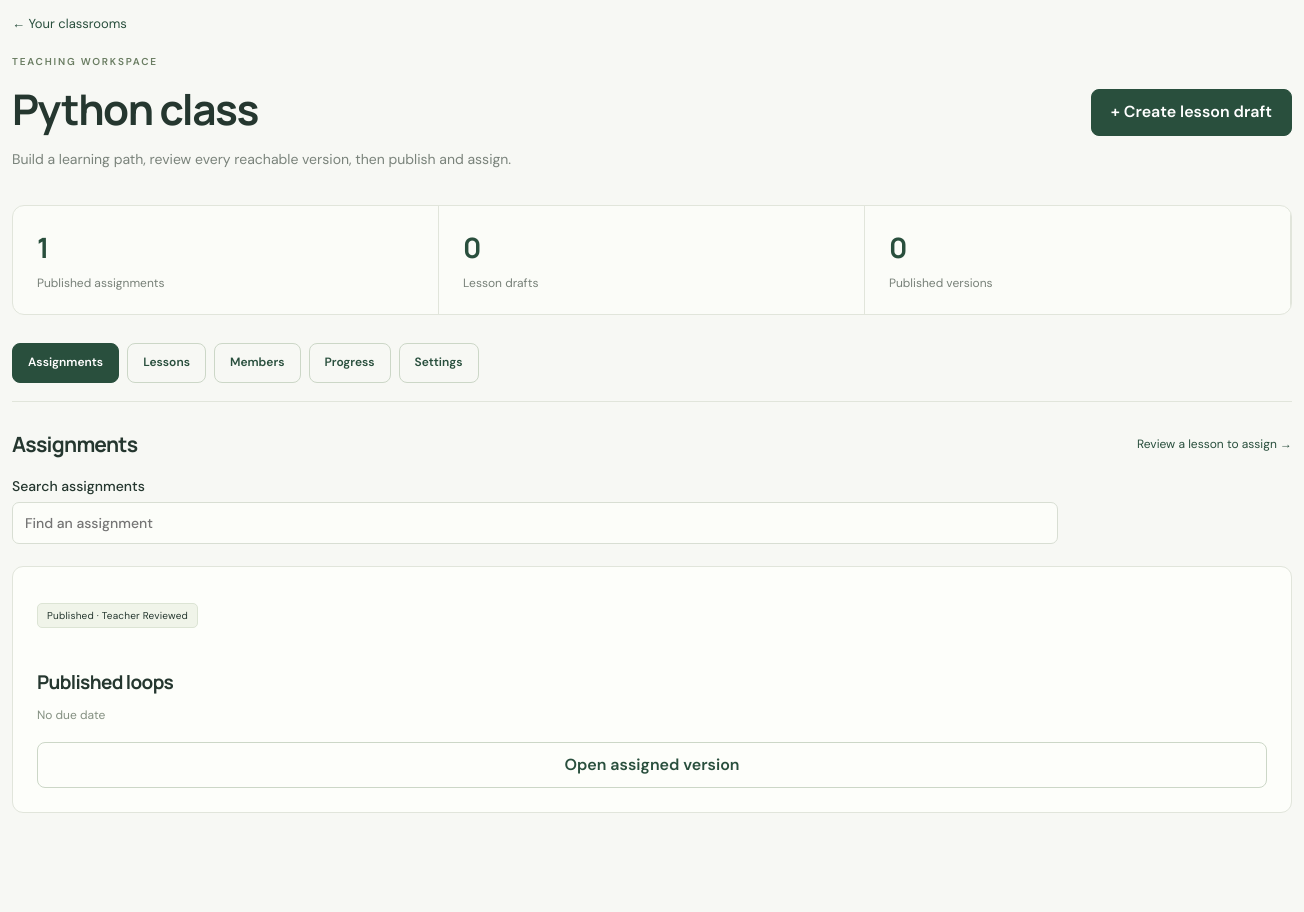
Scenario: makes a teacher confirm membership revocation and shows published version links
Click the button "Members".
click(257, 363)  # box x1=214 y1=343 x2=300 y2=383
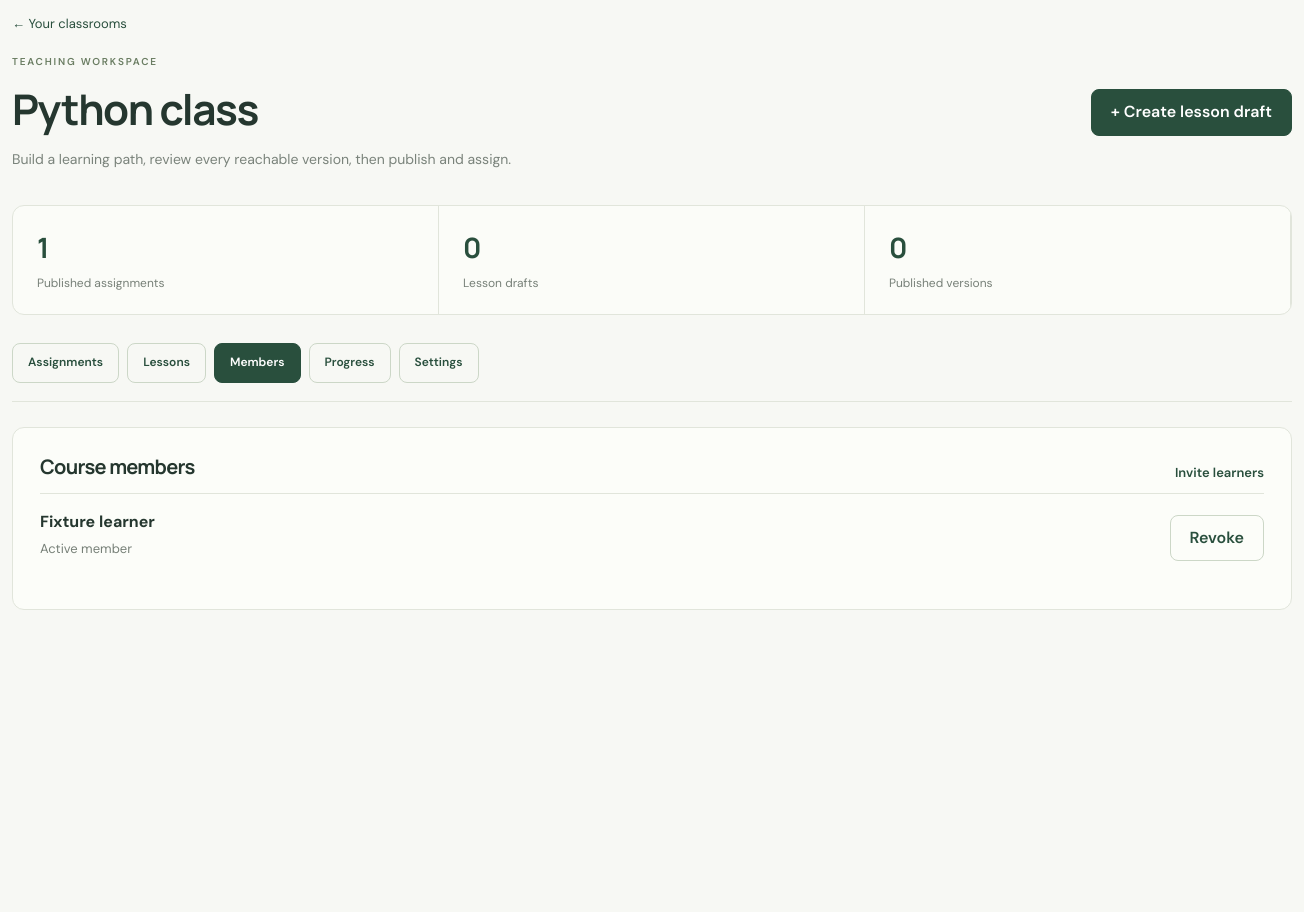
Click the button "Revoke".
click(1217, 538)  # box x1=1170 y1=515 x2=1264 y2=562
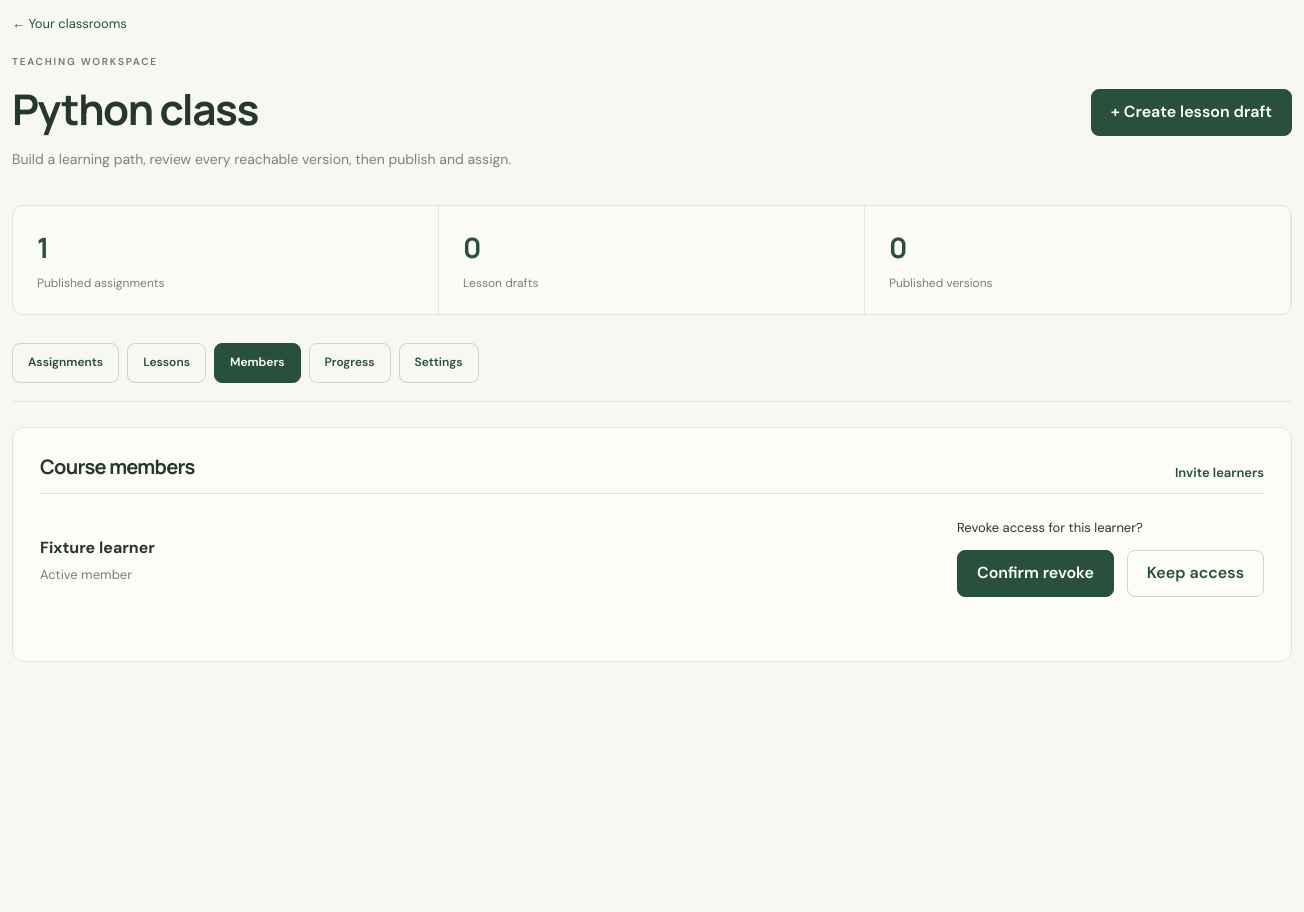
Click the button "Confirm revoke".
click(1035, 574)  # box x1=957 y1=550 x2=1114 y2=597
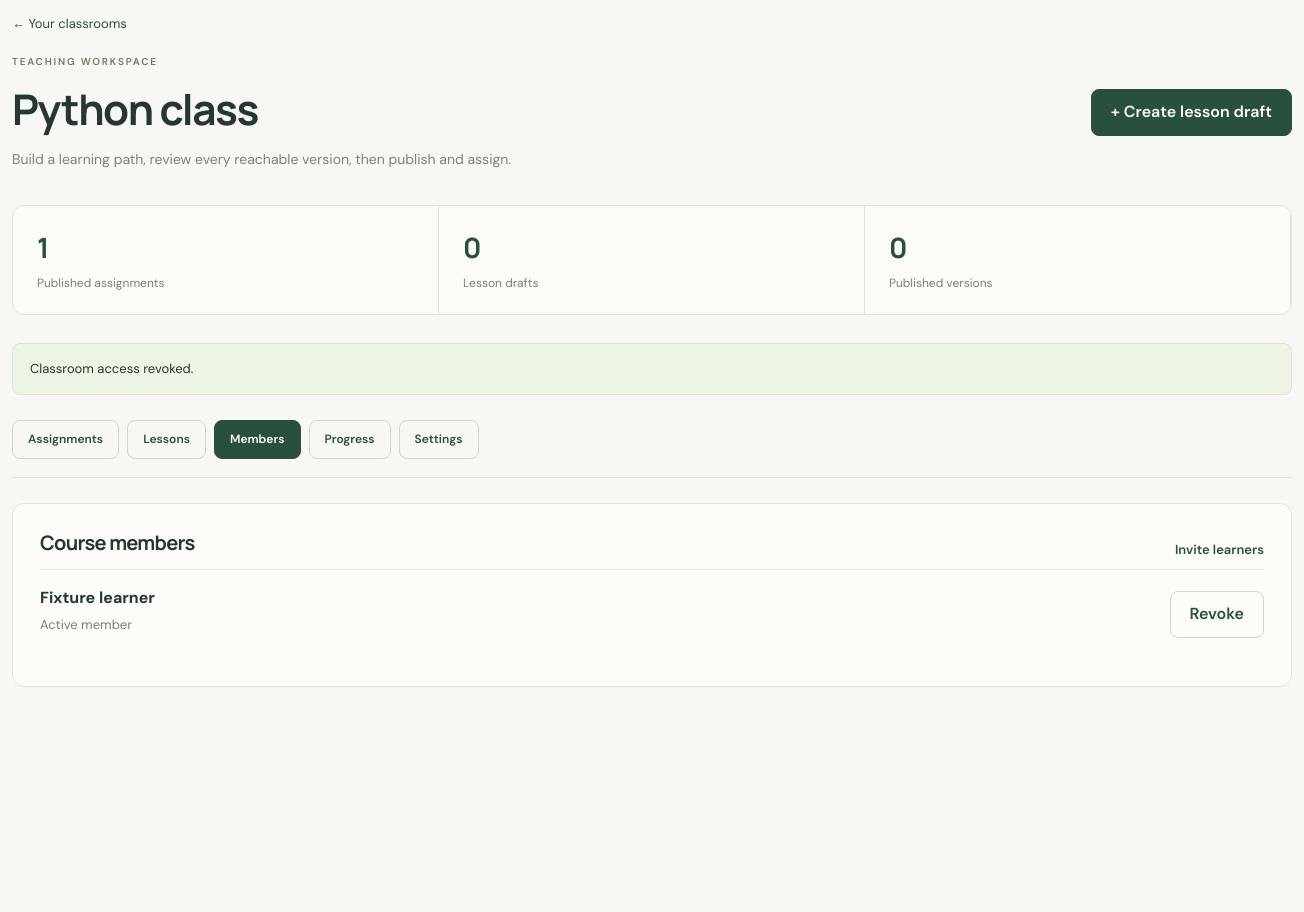
Now the text "Classroom access revoked." is shown, box x1=12 y1=343 x2=1292 y2=395
